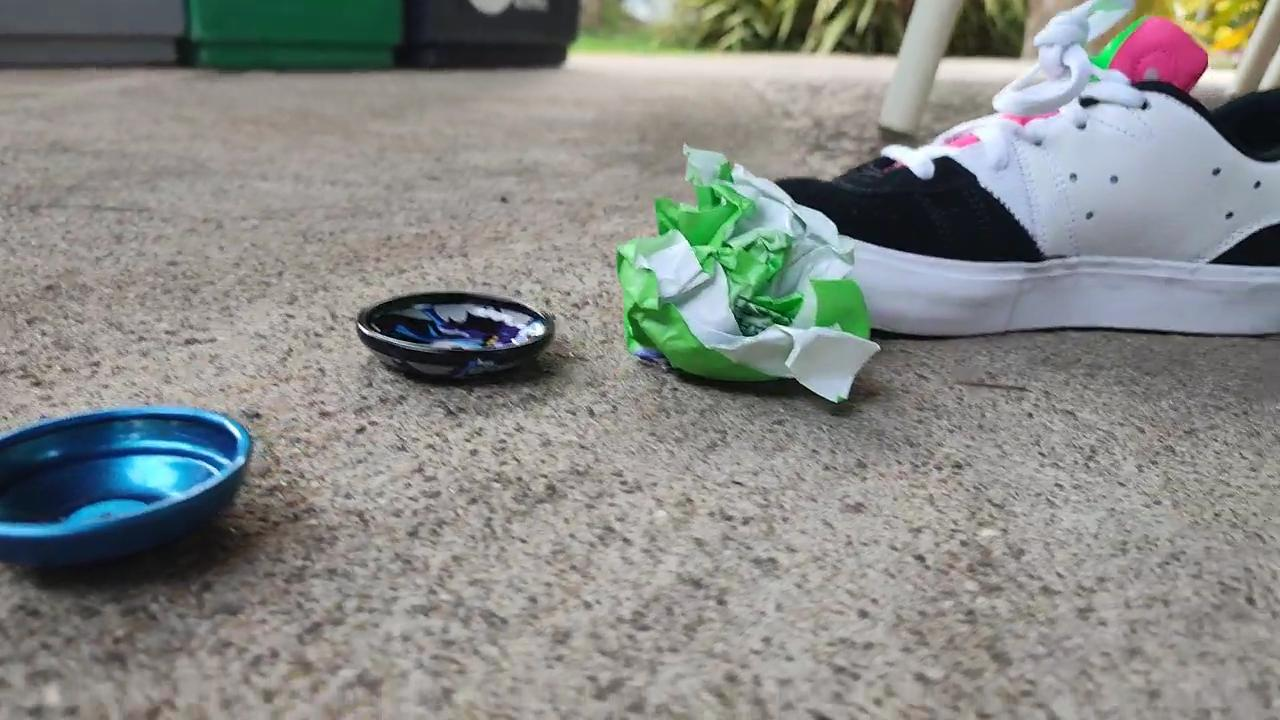Paper: (582, 127, 888, 418)
